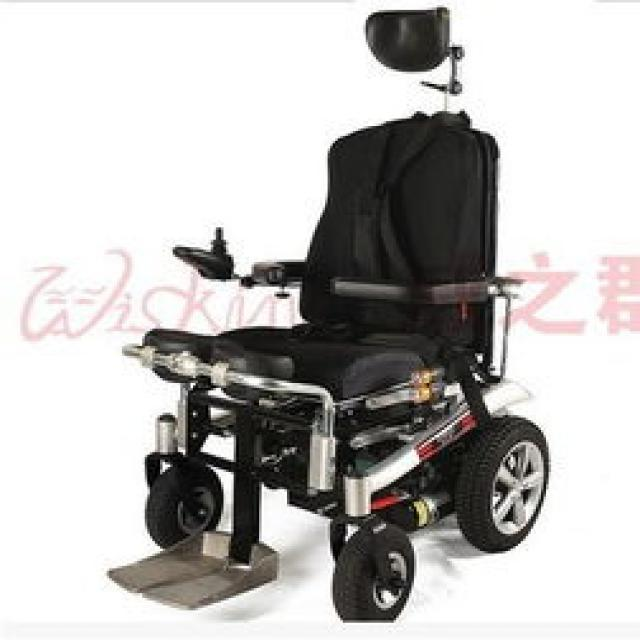wheelchair: (109, 0, 566, 638)
